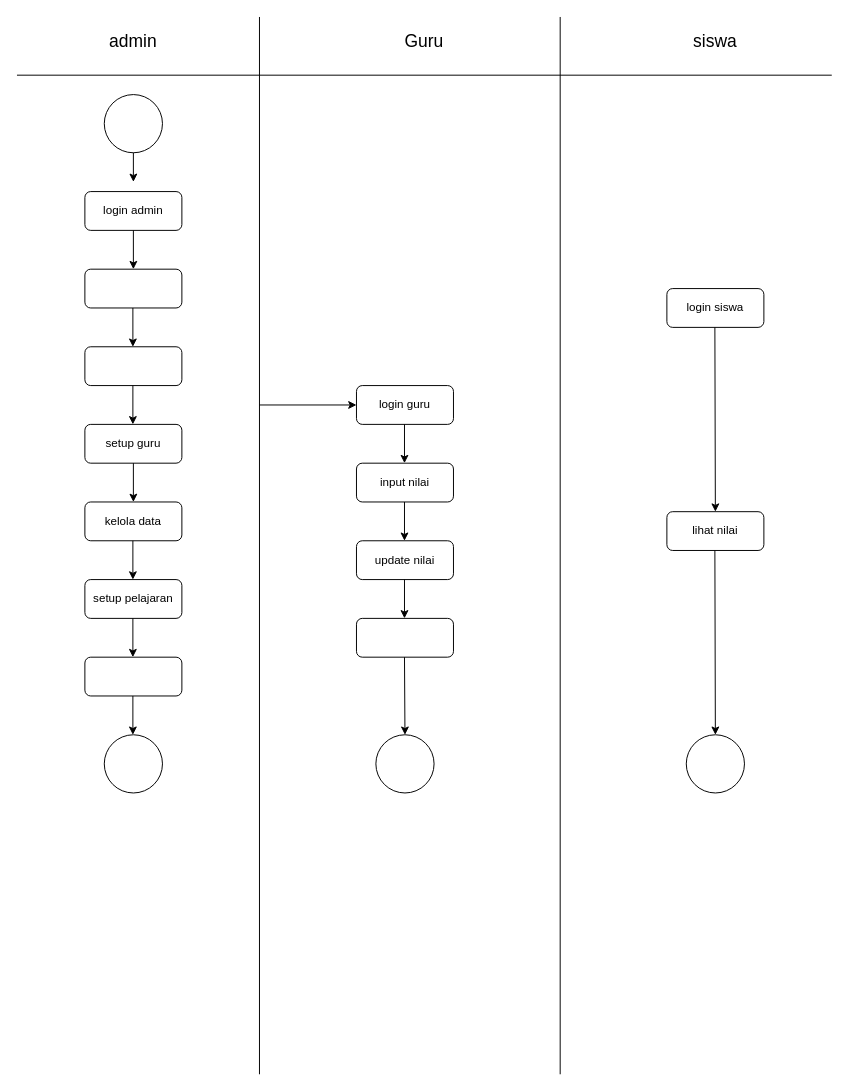
The diagram is 850 pixels wide and 1092 high, and some of its shapes have lost their labels. Here are the shapes that lost their labels. From the top down, the box of each, then its label:
(84, 268, 182, 308): setup siswa
(84, 346, 182, 386): keola data
(356, 617, 453, 657): hapus nilai
(84, 656, 182, 696): kelola admin
